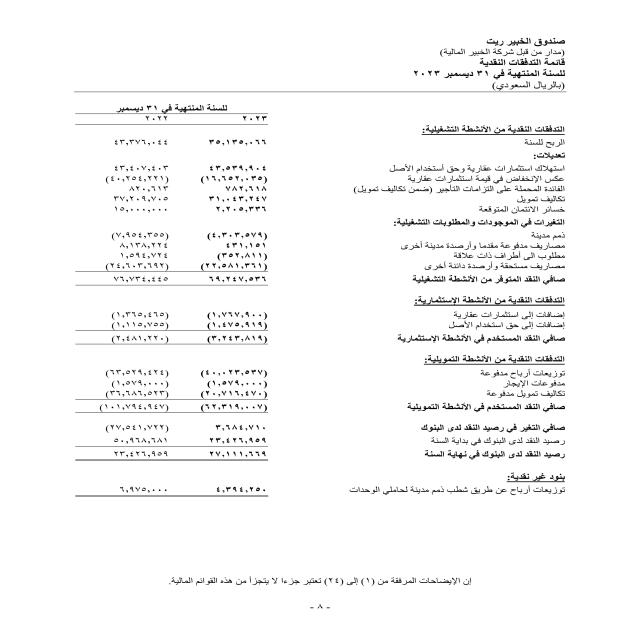financial_sheets: (471, 58, 588, 69)
table: (36, 90, 302, 517)
